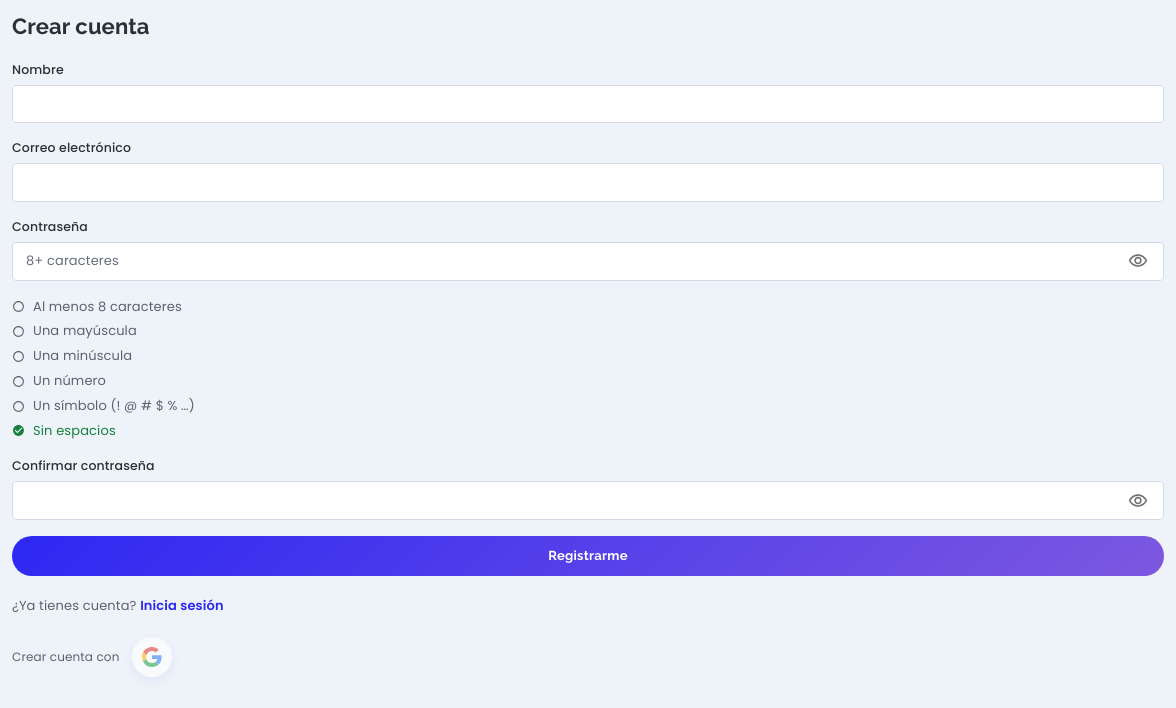
Test case: <RegisterPage /> › muestra un correo repetido
Type "Ana Pérez" into the field labelled "Nombre" at (588, 104), box [12,85,1164,123]
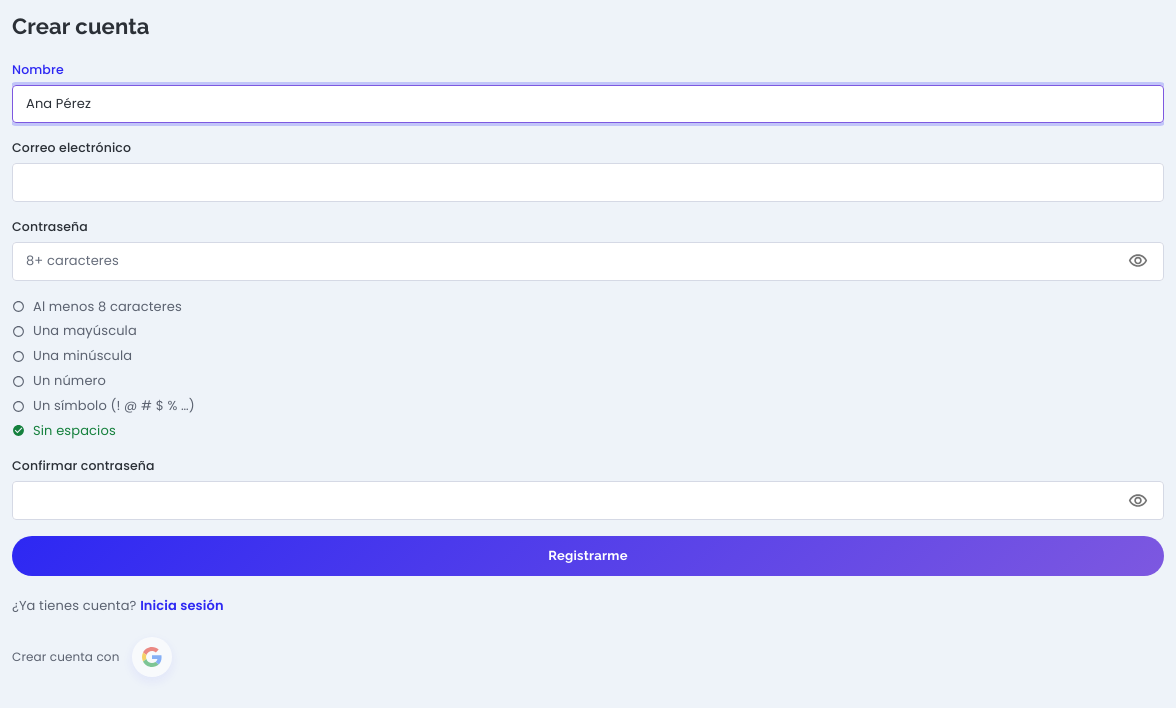
Type "ana@example.com" into the field labelled "Correo electrónico" at (588, 183), box [12,163,1164,202]
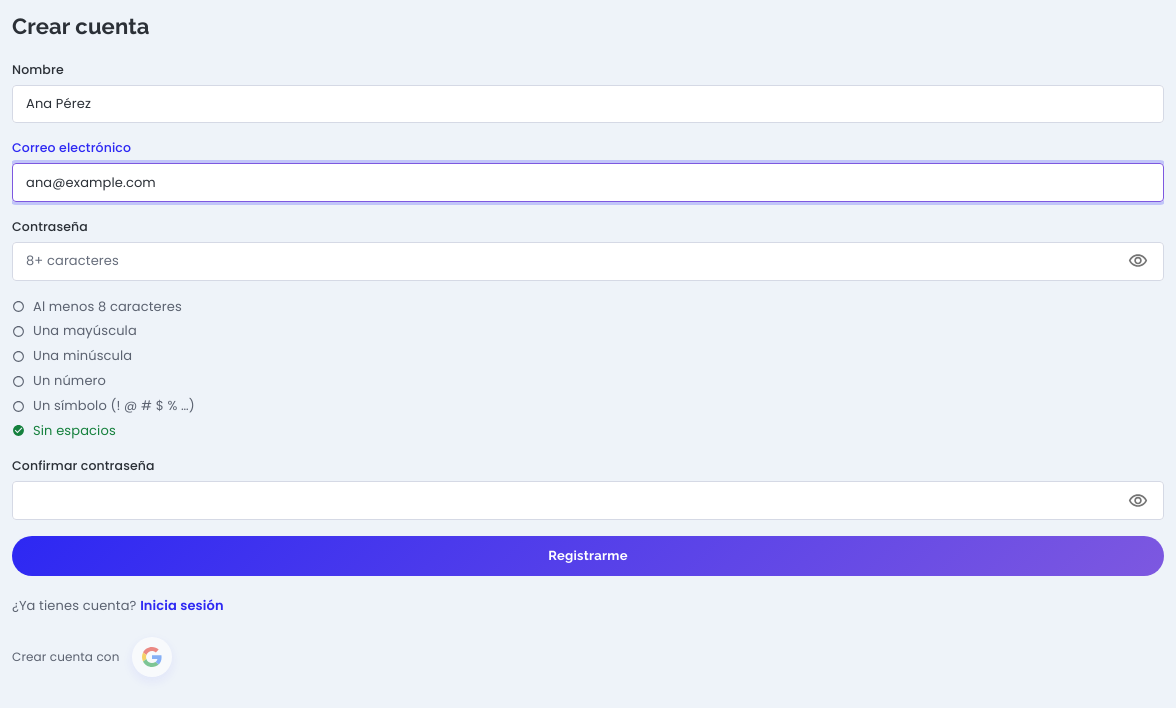
Type "Segura#12345" into the password field labelled "Contraseña" at (564, 261), box [12,242,1115,281]
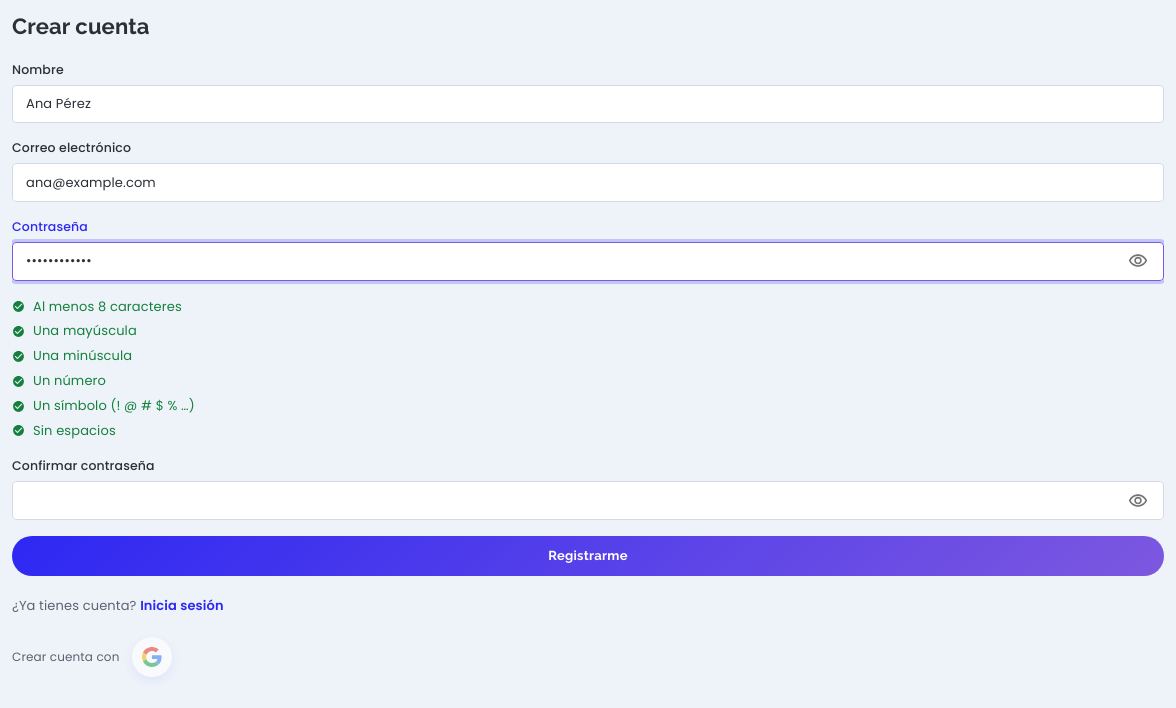
Type "Segura#12345" into the password field labelled "Confirmar contraseña" at (564, 501), box [12,481,1115,520]
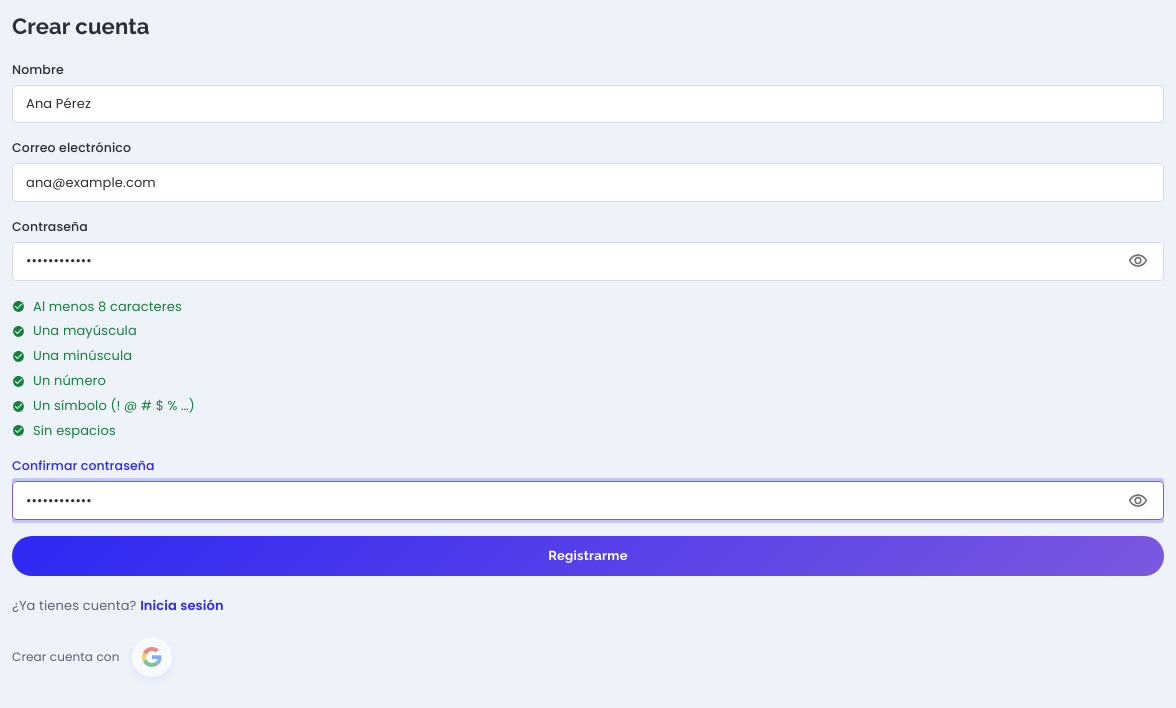
Click the button "Registrarme" at (588, 556), box [12,536,1164,576]
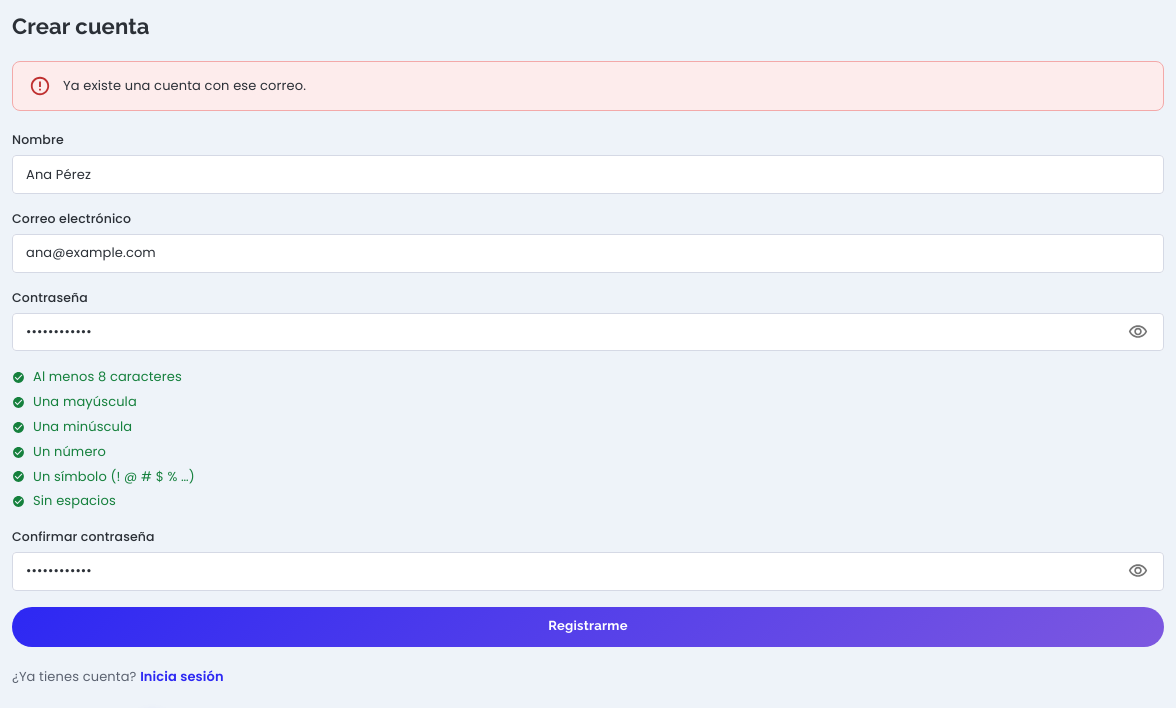
Expected: the message reads "Ya existe una cuenta con ese correo.", [63,76,306,95]
